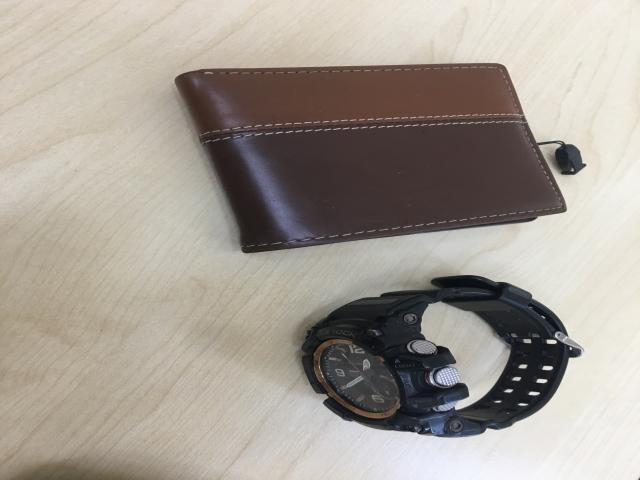Wallet: (173, 63, 568, 256)
Watch: (299, 276, 582, 439)
